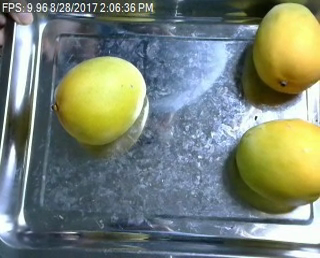Mango: (52, 55, 152, 146), (232, 118, 320, 209), (247, 3, 320, 96)
